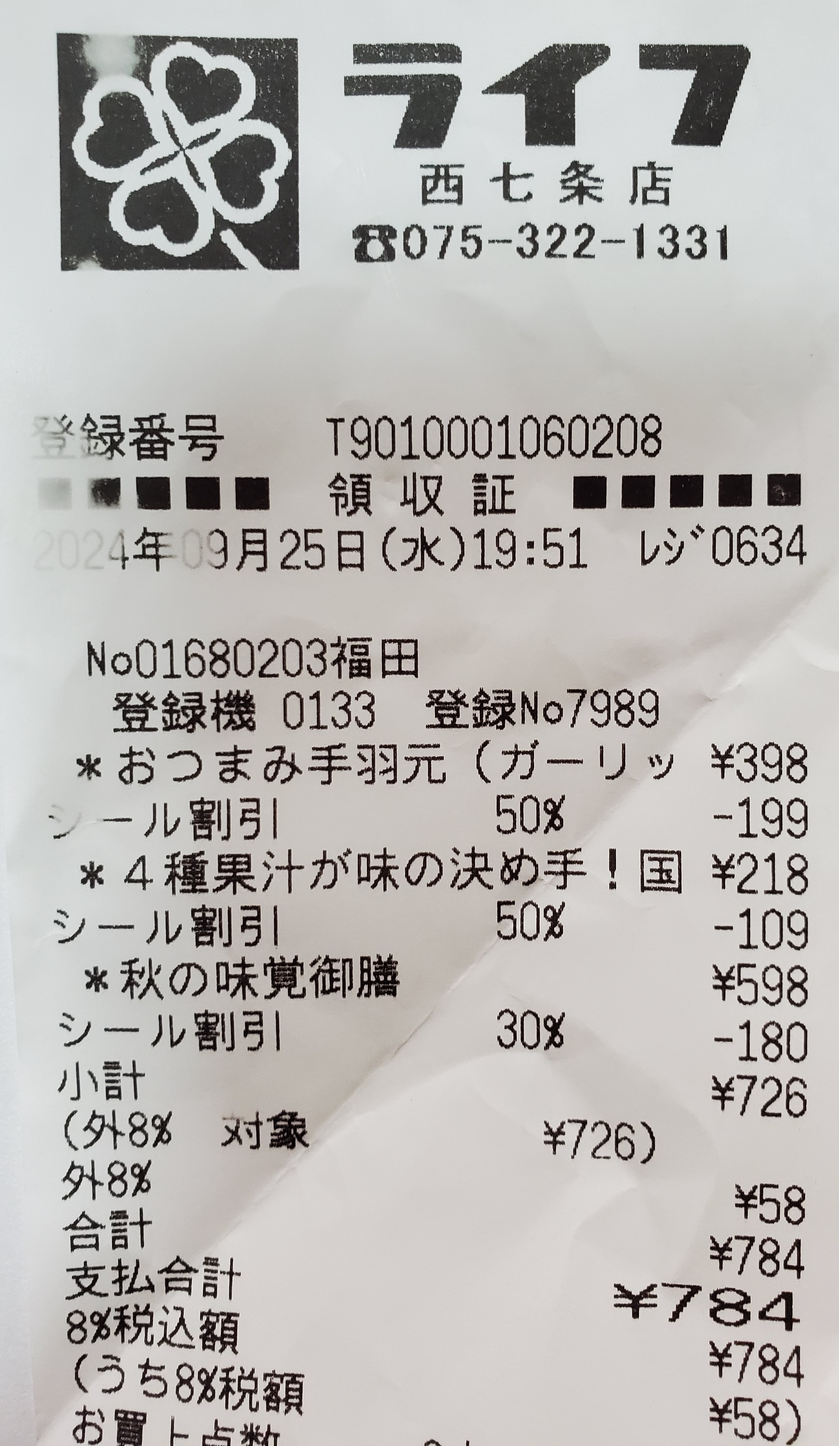Date: (26, 518, 371, 578)
Shopname: (327, 22, 784, 161)
Telnum: (400, 211, 744, 273)
Totalpay: (44, 1258, 805, 1320)
